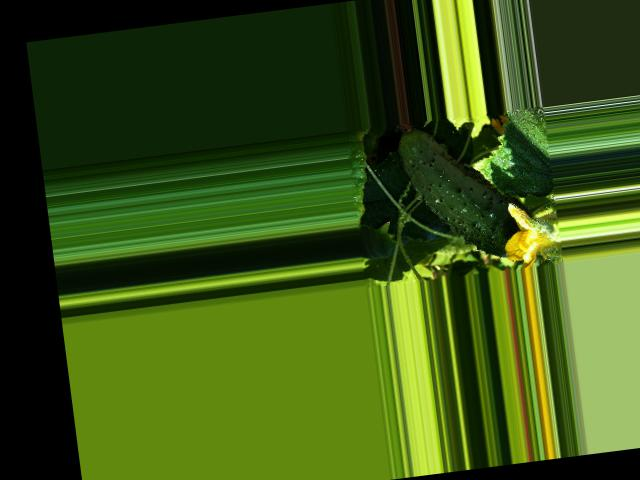cucumber: (394, 108, 536, 268)
